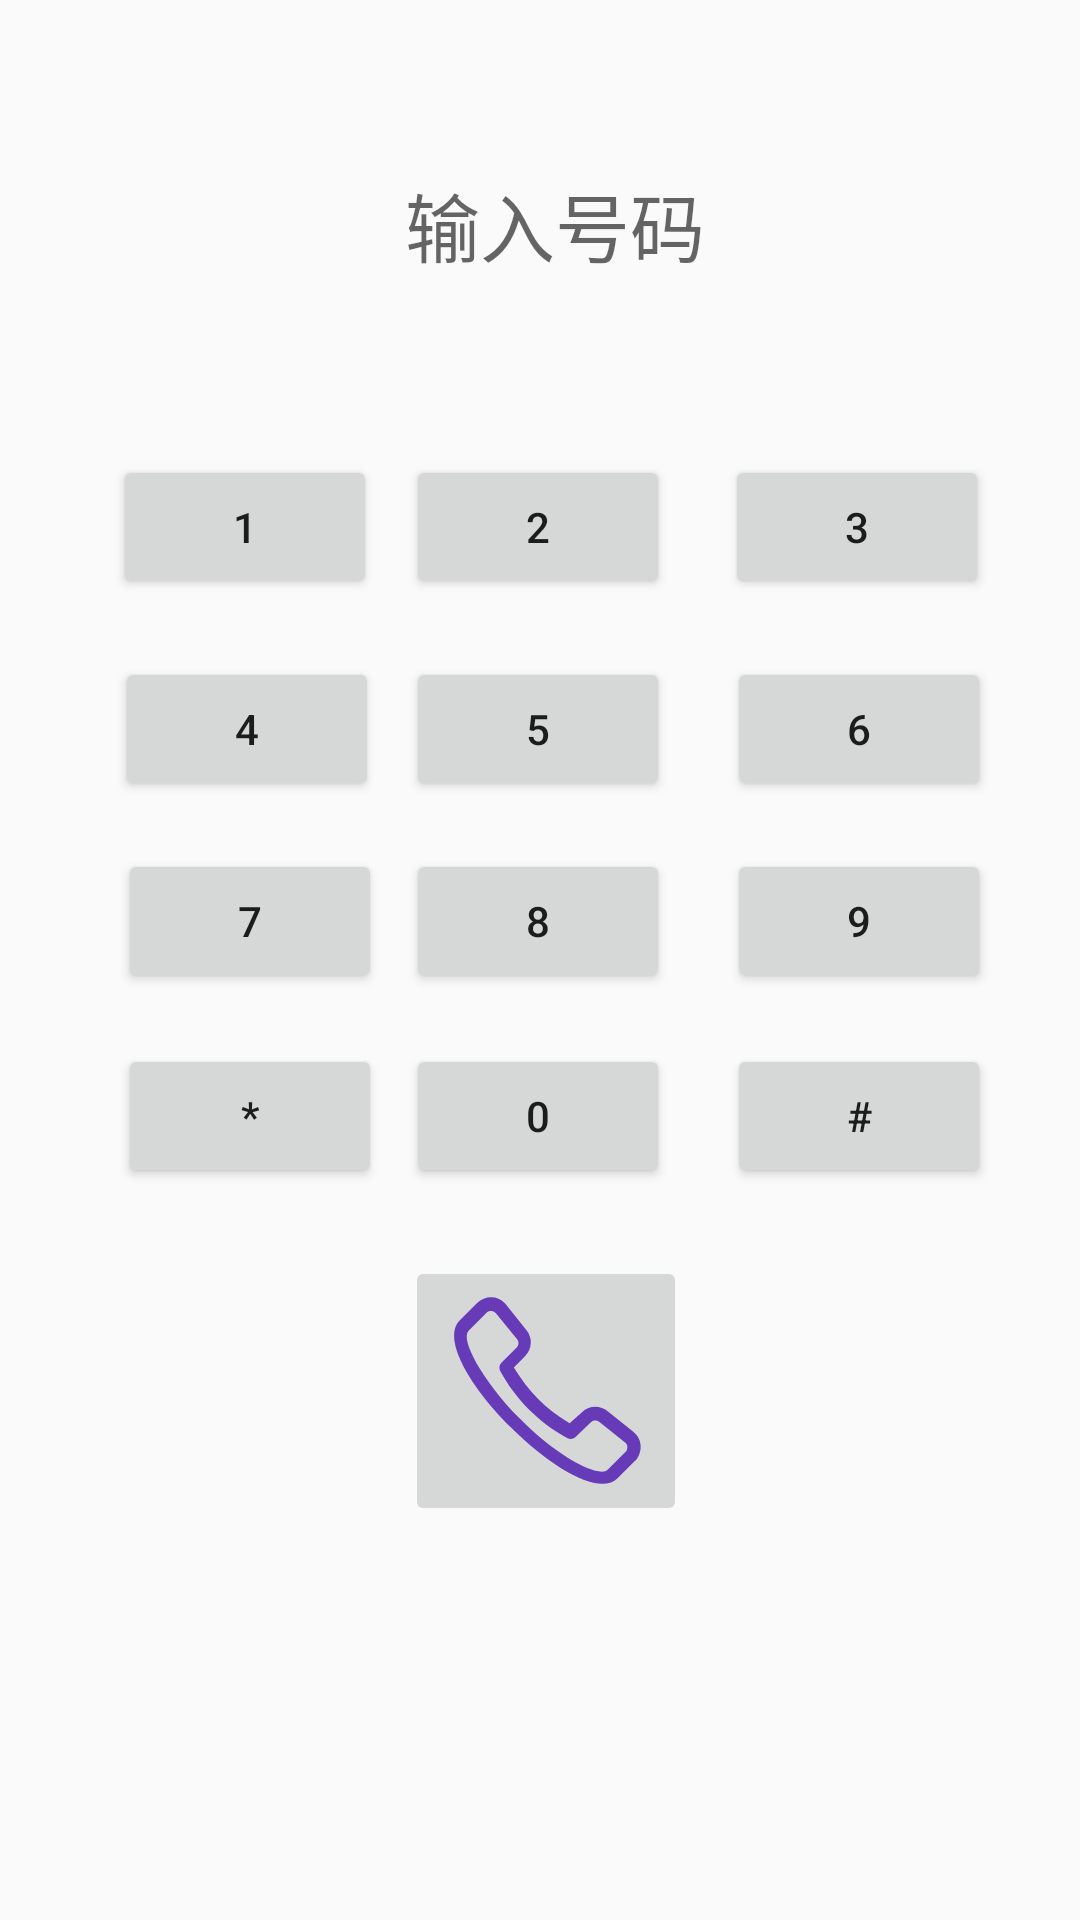

Icon bounding boxes for this 1080x1920 phone screenshot, format box=[x1, y1, x2, y2]:
dial: box=[417, 1274, 675, 1508]
